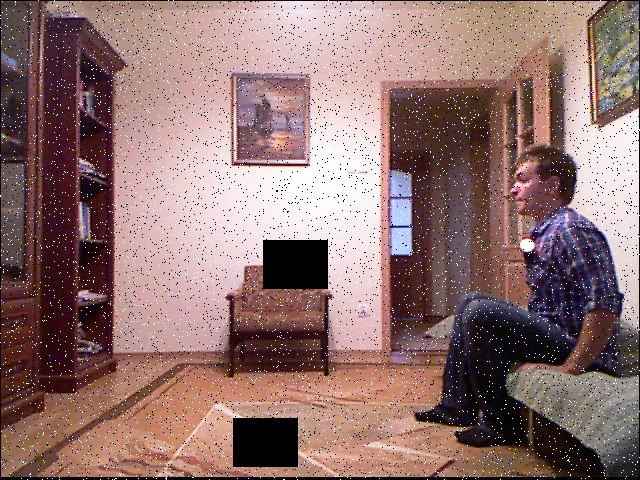sitting: (412, 121, 640, 466)
